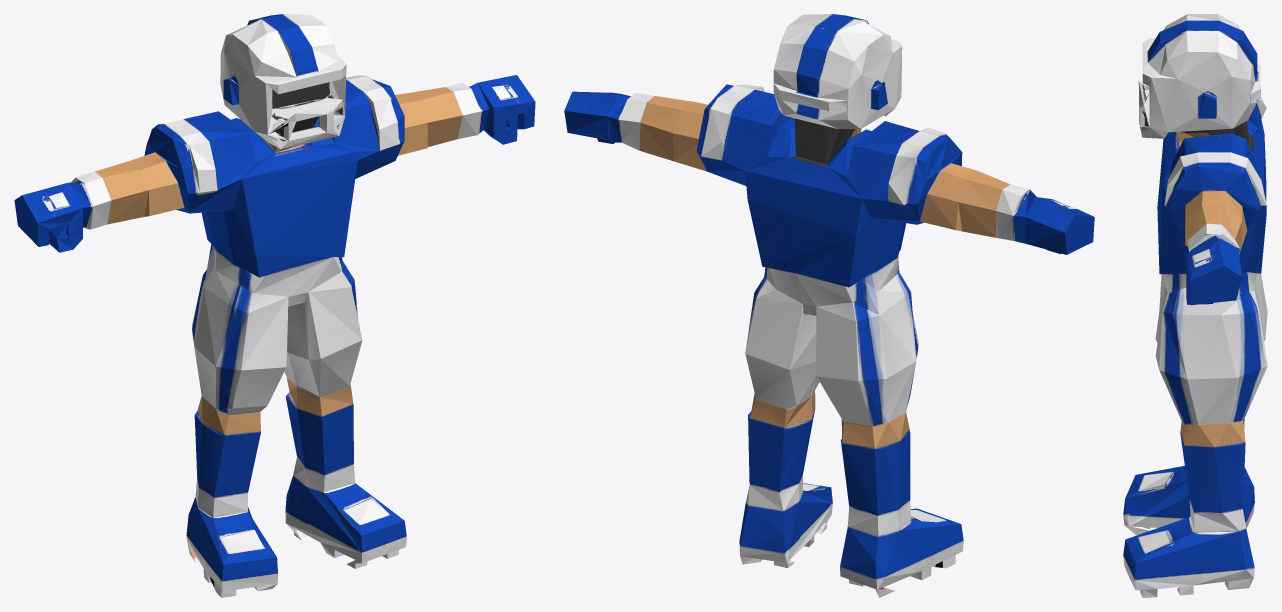
Rendered from base-medium.glb.
3 renders of one model, left to right at view 1: azimuth 30°, elevation 25°; view 2: azimuth 150°, elevation 25°; view 3: azimuth 270°, elevation 25°, orthographic. The views are drawn at different scales.
Parts seen in each view (by area): view 1: base_medium; view 2: base_medium; view 3: base_medium.
Part boxes in pixels (box(x1,y1,x2,y2)): base_medium: box(14, 14, 535, 597); base_medium: box(564, 14, 1094, 597); base_medium: box(1123, 14, 1267, 597).
Size of the model in its own units: 1.81 by 1.85 by 0.4585.
1 material, 1 textured.
